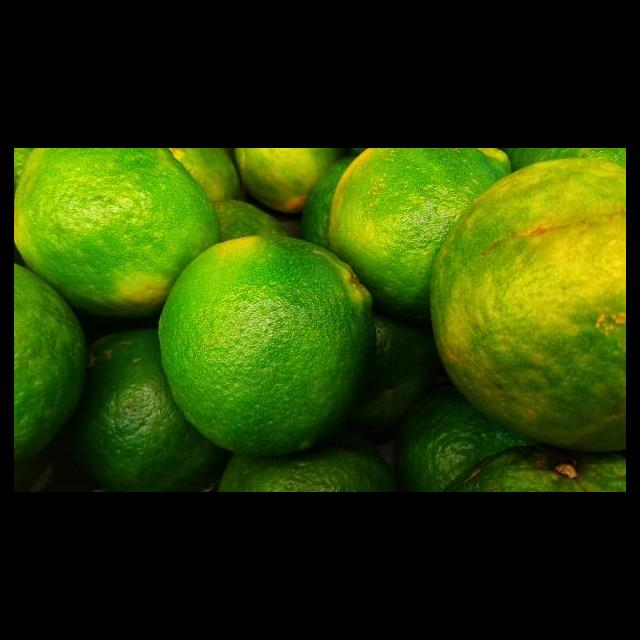lime: (429, 158, 626, 454), (156, 237, 377, 458)
